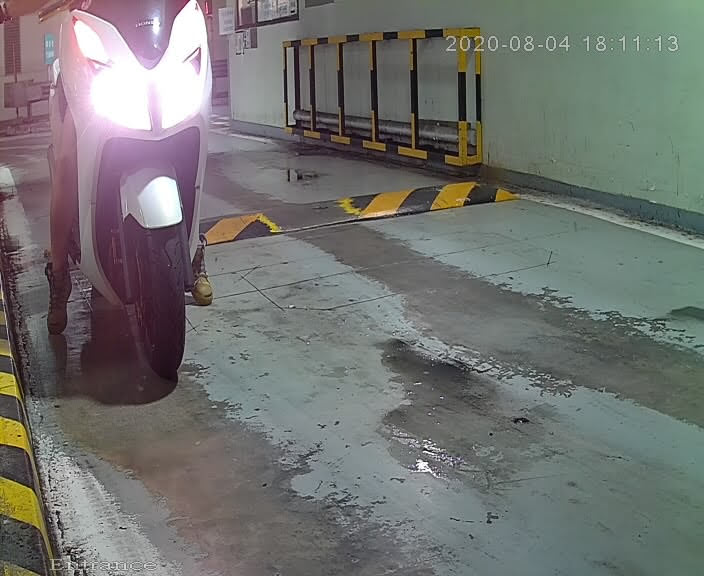motorcycle: (29, 1, 227, 373)
